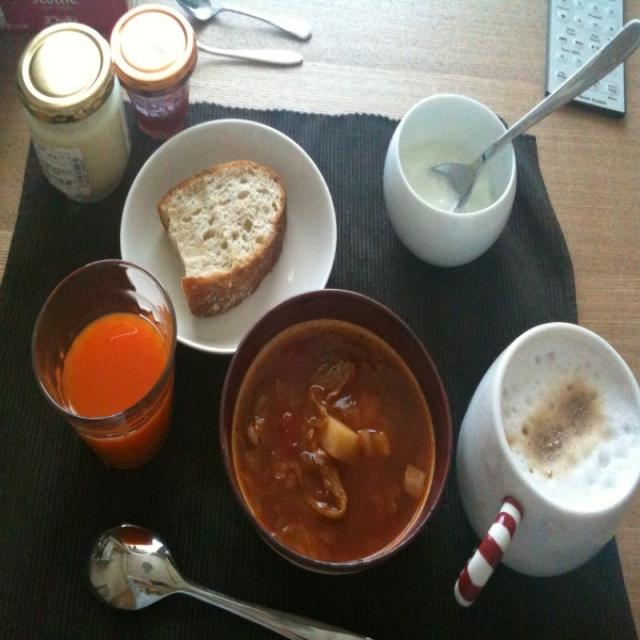面包点心: (112, 110, 338, 336)
